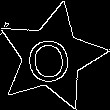O_N: (27, 29, 76, 84)
